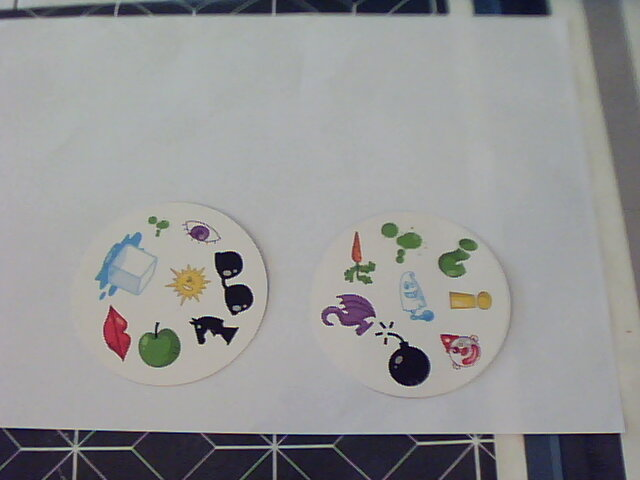bombe: (374, 318, 432, 388)
bouche: (101, 303, 134, 363)
carotte: (340, 230, 379, 287)
cheval: (188, 311, 239, 347)
clown: (437, 328, 484, 373)
dragon: (316, 287, 380, 340)
fantome: (391, 268, 437, 327)
glacon: (94, 228, 159, 307)
lunette: (208, 247, 257, 317)
oeuil: (179, 216, 224, 248)
point_exclamation: (447, 288, 494, 316)
point_interrogation: (437, 234, 480, 282)
pomme: (135, 318, 182, 370)
soleil: (162, 265, 212, 307)
tache: (376, 218, 427, 267), (144, 213, 176, 242)
